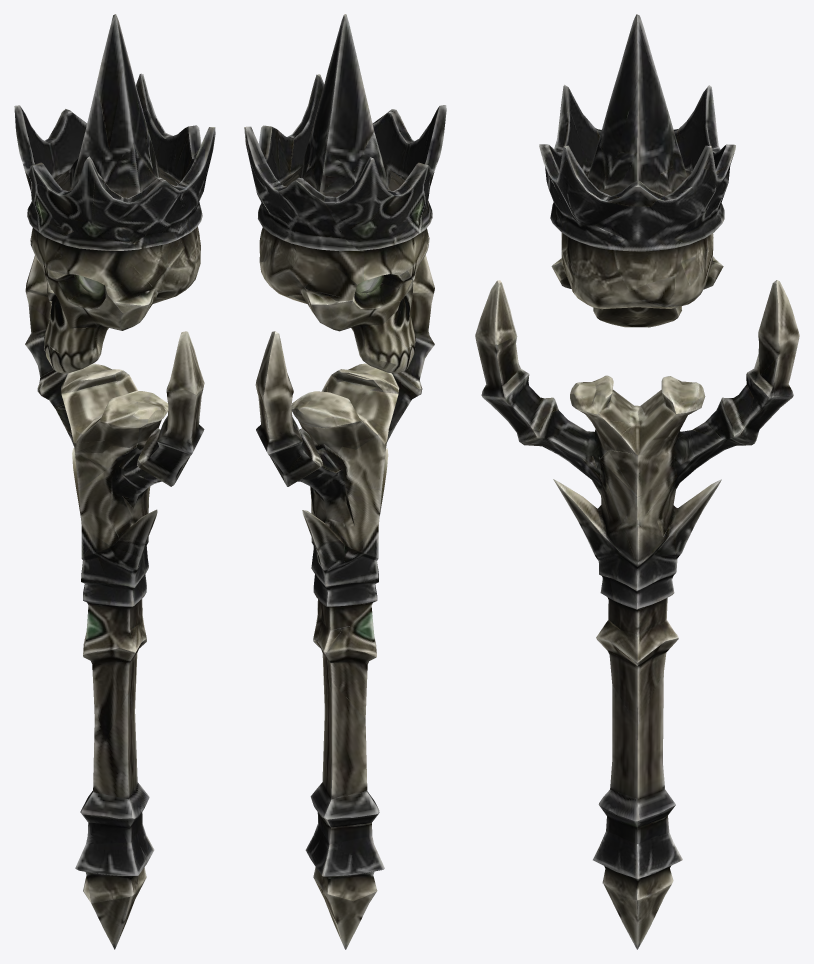
Rendered from lichcrown_staff.glb.
The picture shows the model from 3 angles, left to right: view 1: azimuth 30°, elevation 25°; view 2: azimuth 150°, elevation 25°; view 3: azimuth 270°, elevation 25°; orthographic projection.
Bounding box in the file's own units: 0.389 × 2.1 × 0.661.
Materials: 1 (1 with a texture image).
